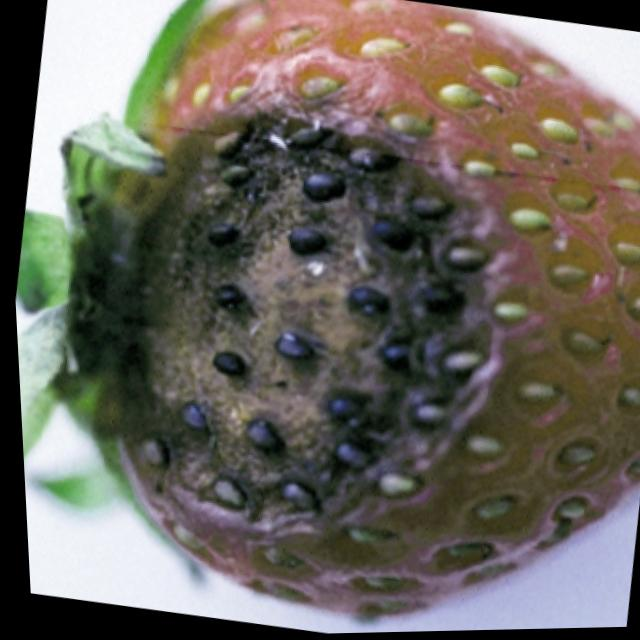Anthracnose Fruit Rot: (95, 52, 542, 591)
